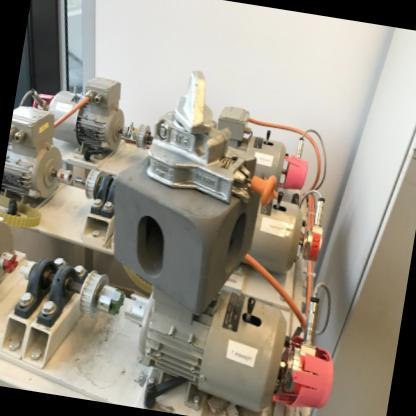CornerCasting: (100, 141, 268, 326)
Twistlock: (136, 54, 297, 218)
